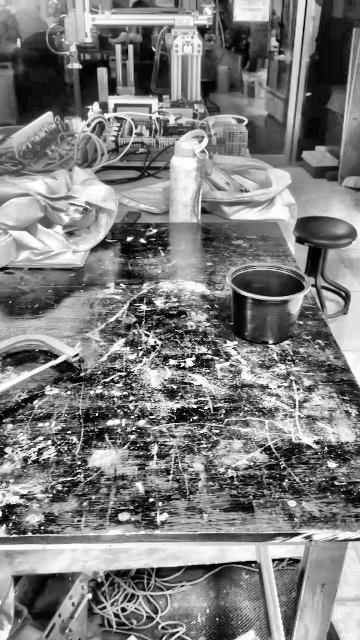pot: (229, 264, 312, 344)
